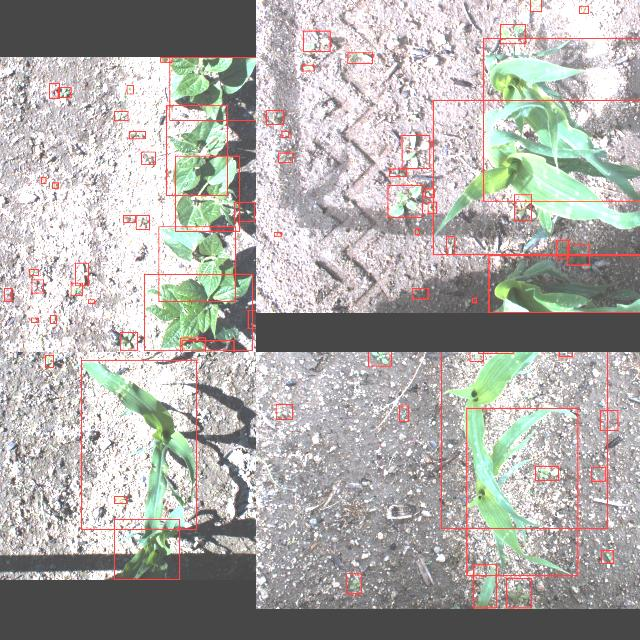crop: (433, 99, 640, 254), (441, 352, 607, 528), (483, 37, 640, 200), (82, 359, 196, 529), (467, 407, 578, 575), (489, 255, 640, 312), (144, 274, 252, 350), (158, 226, 236, 302), (166, 105, 228, 195), (170, 56, 256, 119), (175, 155, 239, 231), (114, 519, 180, 579), (474, 564, 496, 608), (182, 340, 234, 352)
weed: (388, 185, 422, 218), (402, 134, 430, 168), (506, 578, 532, 608), (304, 30, 330, 50), (500, 23, 526, 43), (514, 194, 532, 220), (567, 243, 589, 264), (235, 201, 255, 221), (600, 410, 618, 430), (180, 338, 205, 352), (120, 332, 138, 350), (346, 573, 362, 593), (75, 262, 88, 286), (536, 466, 558, 480), (368, 352, 391, 365), (266, 110, 284, 124), (348, 52, 372, 62), (136, 214, 150, 230), (276, 404, 292, 418), (557, 240, 569, 258), (591, 467, 605, 481), (141, 151, 155, 163), (601, 550, 613, 564), (247, 310, 256, 328), (49, 82, 59, 98), (412, 288, 428, 298), (32, 280, 44, 292), (446, 236, 454, 254), (114, 110, 128, 120), (278, 152, 292, 162), (389, 168, 406, 176), (129, 130, 145, 138), (399, 406, 408, 420), (470, 352, 484, 361), (72, 283, 82, 295), (58, 87, 70, 97), (530, 0, 541, 10), (4, 288, 12, 300), (123, 214, 135, 222), (114, 496, 126, 504), (45, 355, 53, 367), (428, 202, 437, 212), (426, 188, 434, 198), (160, 56, 172, 62), (126, 85, 134, 94), (302, 64, 314, 70), (559, 352, 573, 356), (29, 269, 38, 275), (50, 315, 56, 323), (580, 6, 588, 12), (52, 182, 58, 188), (282, 131, 288, 137), (274, 232, 282, 236), (32, 318, 38, 322), (88, 299, 94, 303), (42, 177, 46, 183), (415, 228, 419, 234), (473, 298, 477, 302)
